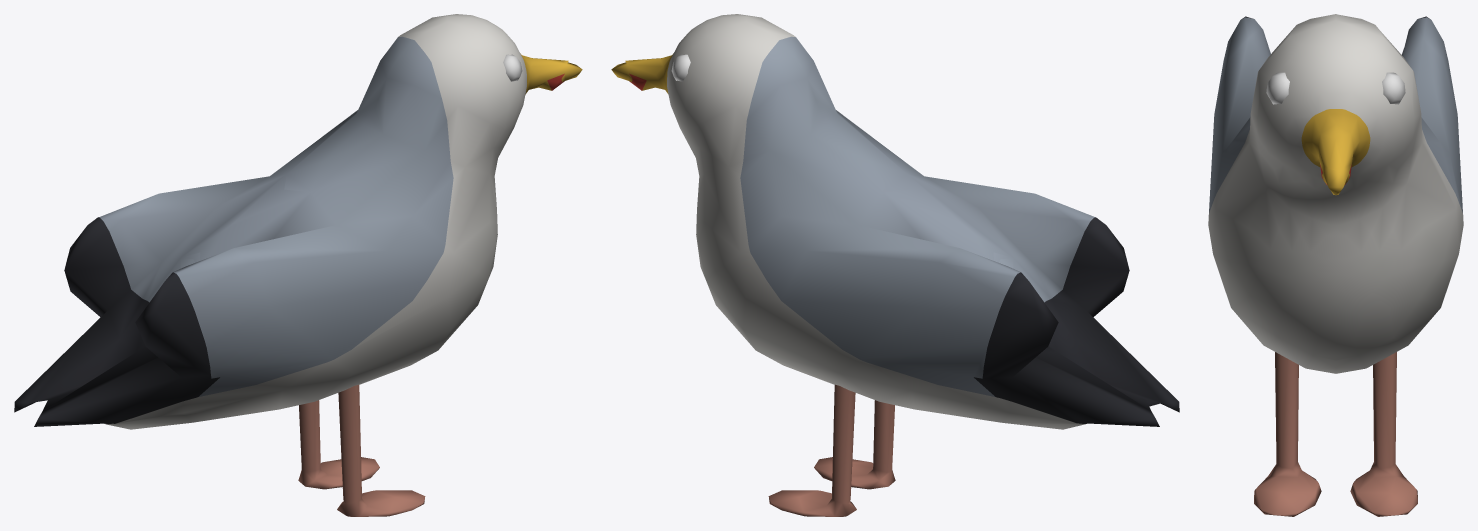
Rendered from SeagullStanding.fbx.
3 renders of one model, left to right at view 1: azimuth 30°, elevation 25°; view 2: azimuth 150°, elevation 25°; view 3: azimuth 270°, elevation 25°, orthographic. The views are drawn at different scales.
Visible parts, largest first — view 1: SeagullStanding; view 2: SeagullStanding; view 3: SeagullStanding.
Part boxes in pixels (left/top/right/bottom): SeagullStanding: left=14, top=14, right=582, bottom=516; SeagullStanding: left=611, top=14, right=1179, bottom=516; SeagullStanding: left=1208, top=14, right=1463, bottom=516.
Bounding box in the file's own units: 0.4622 × 0.3589 × 0.1569.
